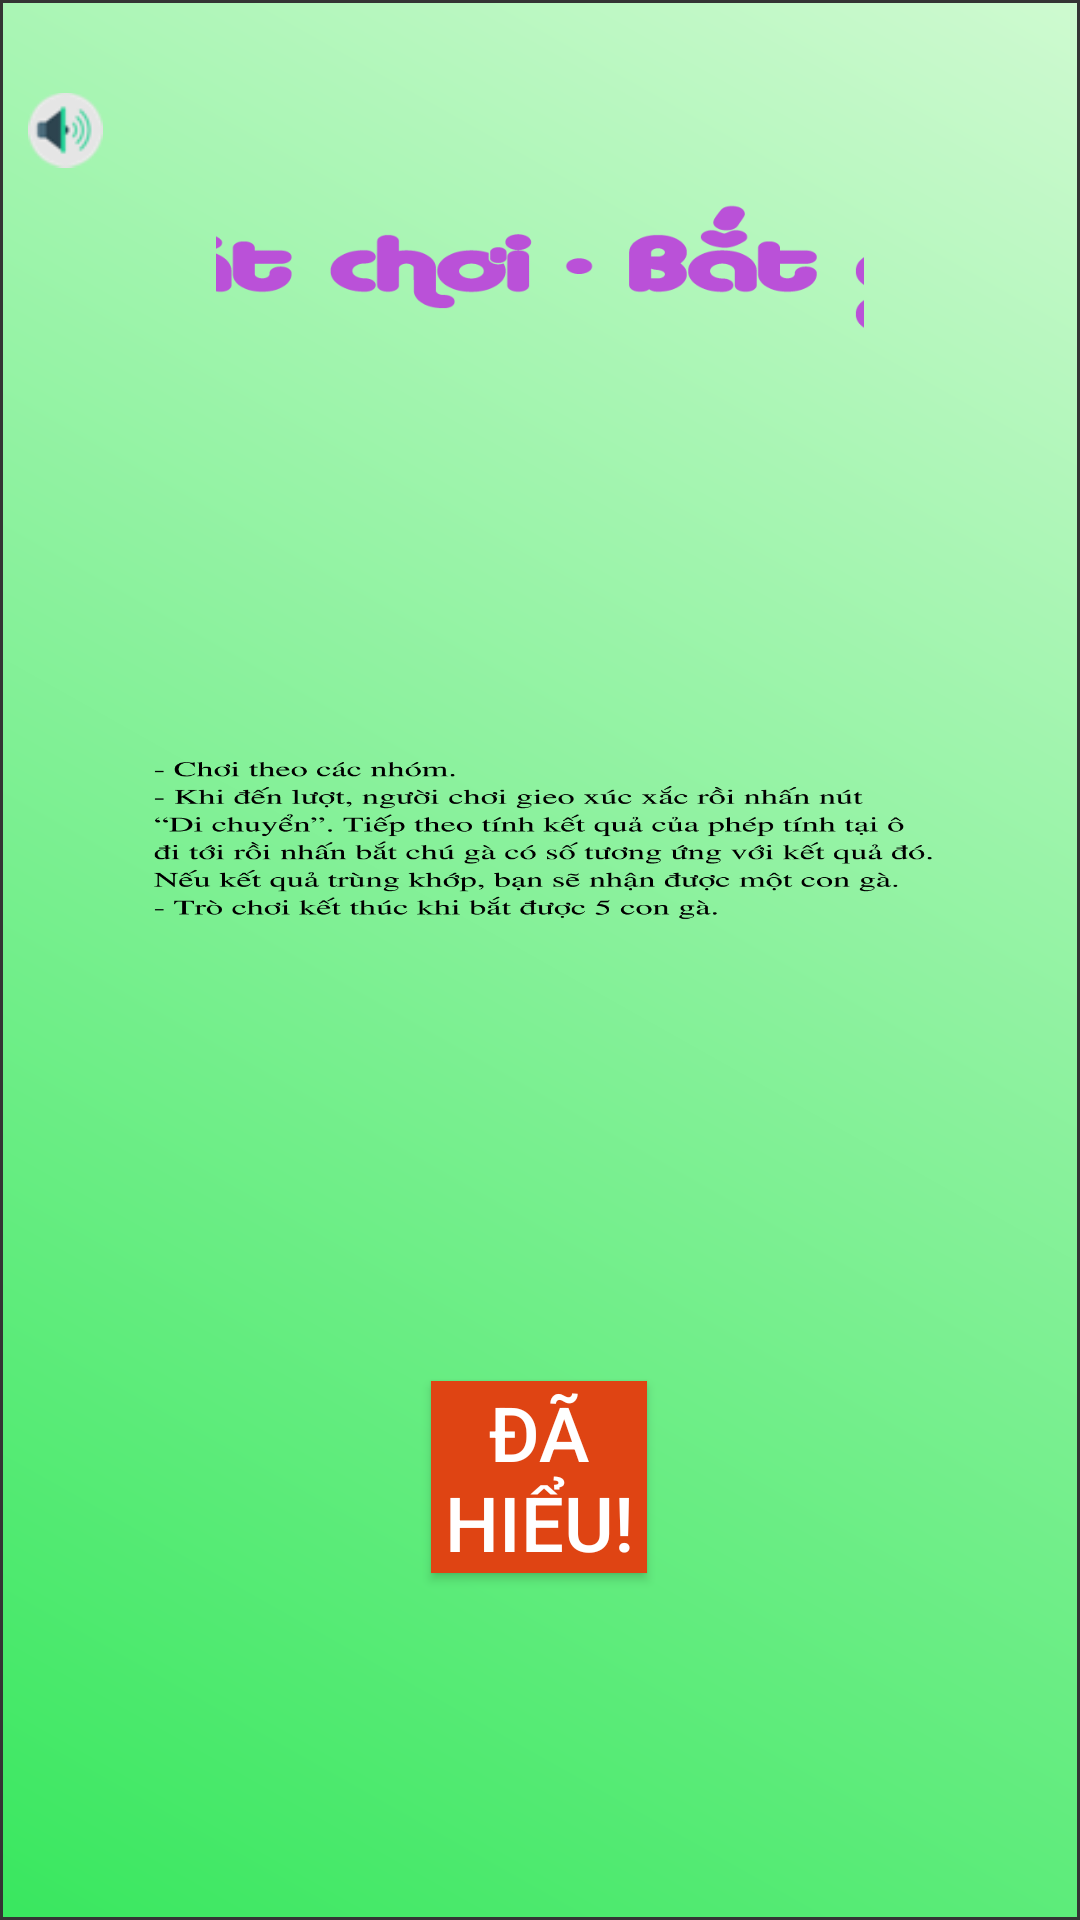

Where to tap for icons on this 1080w x 1920h app screen, as point (x, y):
sound on: point (65, 130)
